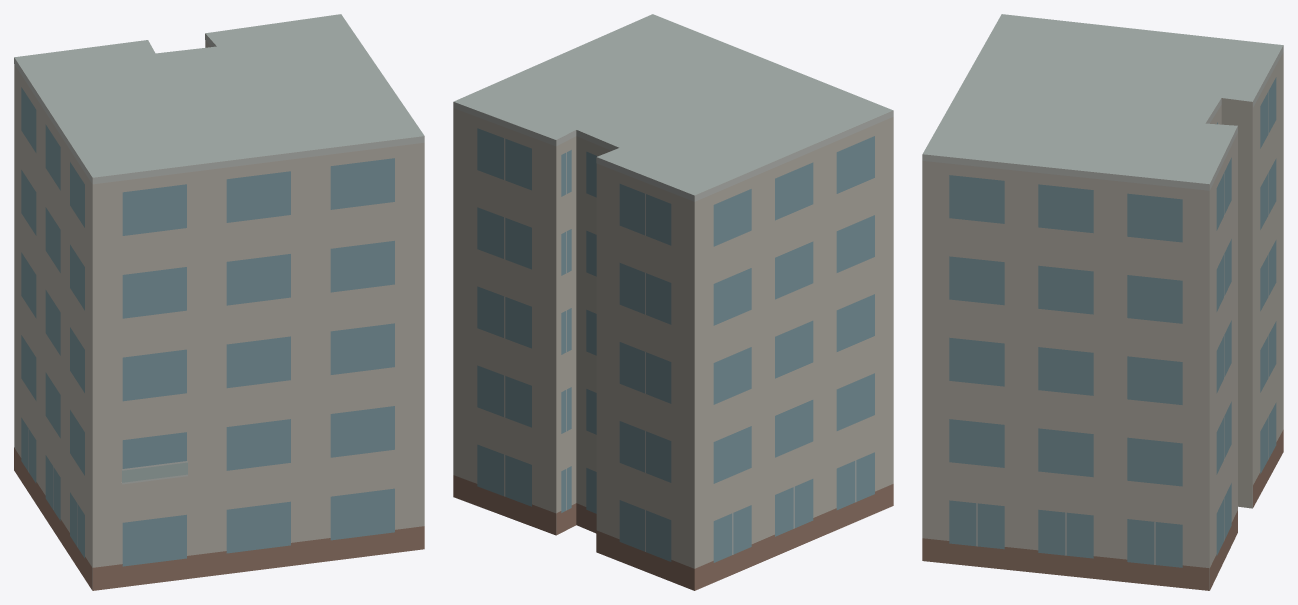
File: survey-upis-32763827.glb
3 views of the same model, side by side, from view 1: azimuth 30°, elevation 25°; view 2: azimuth 150°, elevation 25°; view 3: azimuth 270°, elevation 25° (orthographic). The views are drawn at different scales.
Visible parts, largest first — view 1: survey-upis-32763827.tmp; view 2: survey-upis-32763827.tmp; view 3: survey-upis-32763827.tmp.
Boxes of the visible parts, x1,y1,x2,y2 form: survey-upis-32763827.tmp: (14,14,424,590); survey-upis-32763827.tmp: (453,14,893,590); survey-upis-32763827.tmp: (922,14,1283,590).
Bounding box in the file's own units: 13.65 × 15.2 × 12.24.
